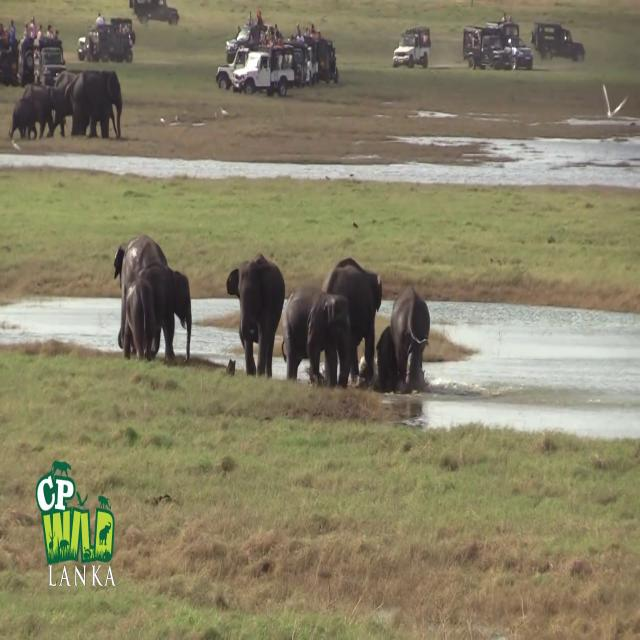Elephant: (322, 256, 382, 385), (226, 252, 285, 377), (123, 264, 192, 362), (114, 234, 168, 352), (306, 291, 352, 388), (390, 284, 430, 393), (281, 284, 323, 382), (64, 70, 122, 140)
person: (96, 11, 104, 25)
